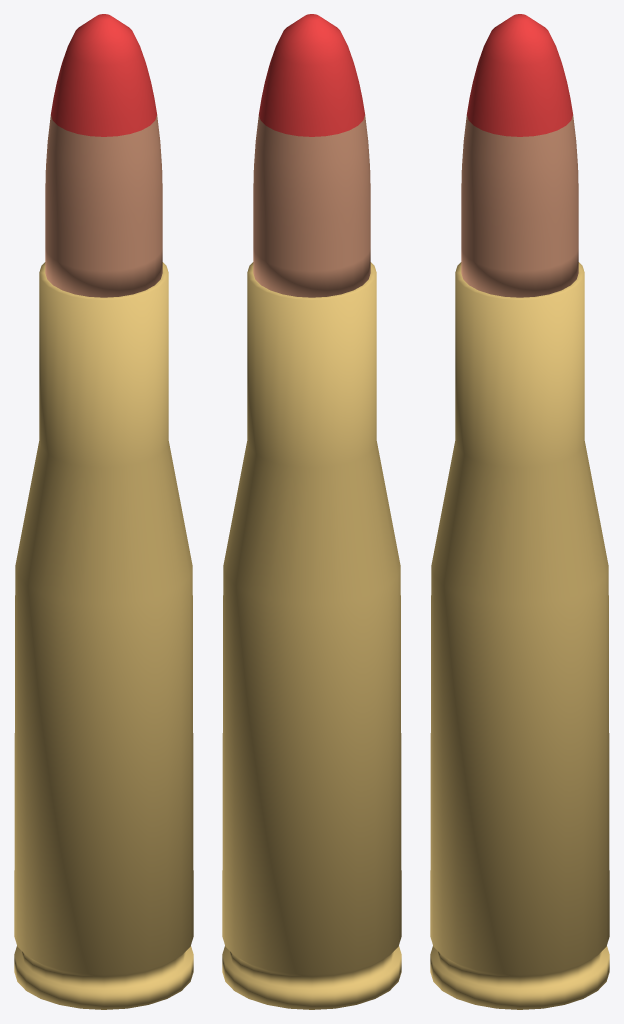
3 renders of one model, left to right at view 1: azimuth 30°, elevation 25°; view 2: azimuth 150°, elevation 25°; view 3: azimuth 270°, elevation 25°, orthographic.
Parts seen in each view (by area): view 1: vaina, bala_cuerpo, punta; view 2: vaina, bala_cuerpo, punta; view 3: vaina, bala_cuerpo, punta.
Boxes of the visible parts, x1,y1,x2,y2 form: vaina: (14, 262, 193, 1009); bala_cuerpo: (45, 115, 162, 297); punta: (51, 14, 156, 136); vaina: (222, 262, 401, 1009); bala_cuerpo: (253, 115, 370, 297); punta: (259, 14, 364, 136); vaina: (430, 262, 609, 1009); bala_cuerpo: (461, 115, 578, 297); punta: (467, 14, 572, 136).
Size of the model in its own units: 0.0119 by 0.0699 by 0.0119.
